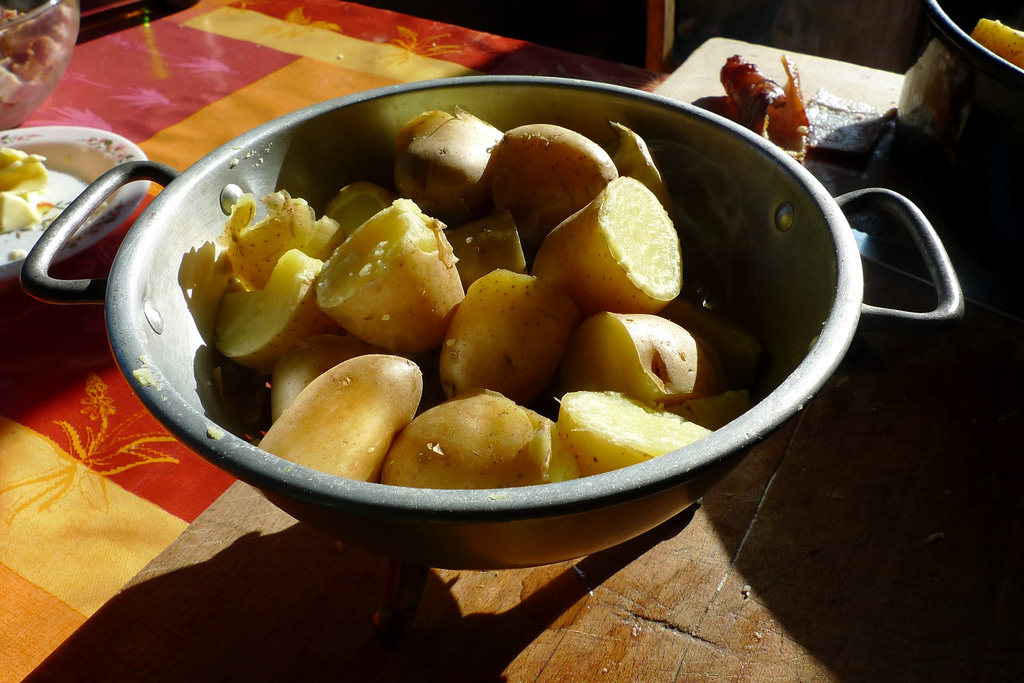boiled potatoes: (248, 350, 427, 492), (187, 185, 332, 359), (314, 203, 472, 354), (529, 186, 691, 322), (464, 122, 620, 244), (383, 382, 565, 483), (552, 393, 722, 472)
